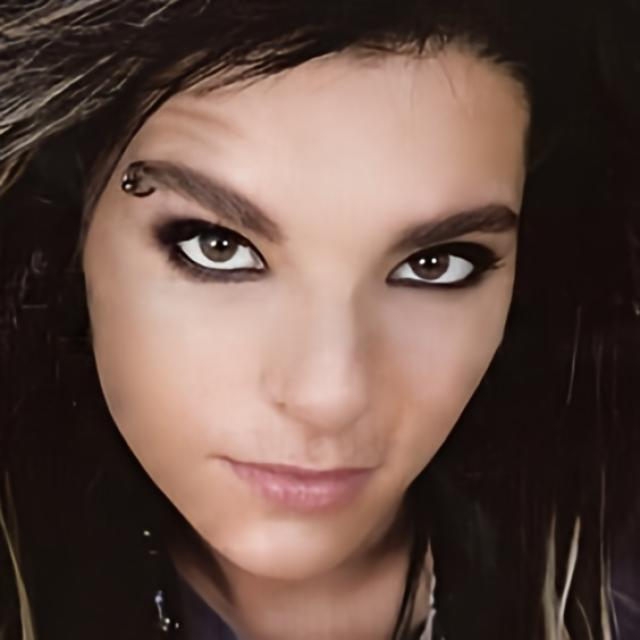content: (84, 25, 534, 582)
